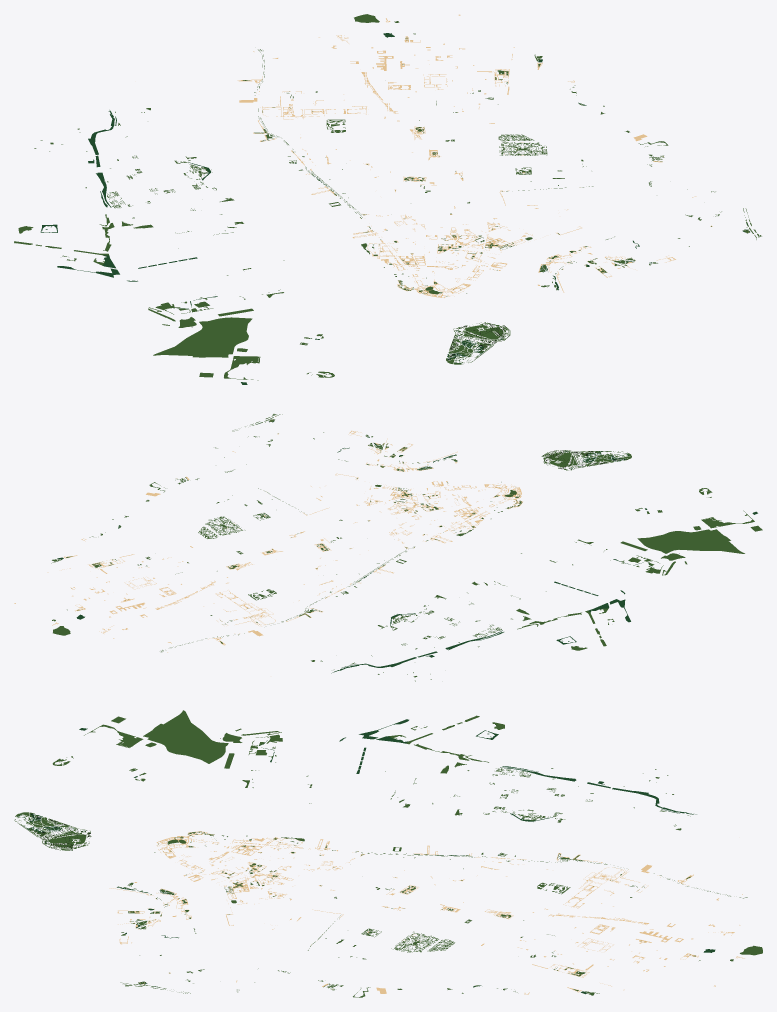
The model's file is HudsonGreenery.glb.
3 views of the same model, one above another, from view 1: azimuth 30°, elevation 25°; view 2: azimuth 150°, elevation 25°; view 3: azimuth 270°, elevation 25° (orthographic). The views are drawn at different scales.
Visible parts, largest first — view 1: map_48osm_areas_pedestrian, map_6osm_vegetation, map_48osm_vegetation, map_44osm_vegetation, map_44osm_forest; view 2: map_48osm_areas_pedestrian, map_6osm_vegetation, map_48osm_vegetation, map_44osm_vegetation, map_44osm_forest; view 3: map_48osm_areas_pedestrian, map_6osm_vegetation, map_48osm_vegetation, map_44osm_vegetation, map_44osm_forest.
Part boxes in pixels (left/top/right/bottom): map_48osm_areas_pedestrian: left=237, top=14, right=748, bottom=297; map_6osm_vegetation: left=153, top=235, right=510, bottom=380; map_48osm_vegetation: left=242, top=14, right=761, bottom=294; map_44osm_vegetation: left=14, top=108, right=284, bottom=325; map_44osm_forest: left=40, top=110, right=217, bottom=309; map_48osm_areas_pedestrian: left=14, top=416, right=522, bottom=652; map_6osm_vegetation: left=403, top=450, right=762, bottom=560; map_48osm_vegetation: left=51, top=414, right=522, bottom=652; map_44osm_vegetation: left=311, top=542, right=687, bottom=681; map_44osm_forest: left=331, top=559, right=653, bottom=673; map_48osm_areas_pedestrian: left=109, top=831, right=744, bottom=994; map_6osm_vegetation: left=14, top=710, right=304, bottom=878; map_48osm_vegetation: left=118, top=831, right=762, bottom=997; map_44osm_vegetation: left=235, top=715, right=690, bottom=830; map_44osm_forest: left=259, top=719, right=696, bottom=821.
Size of the model in its own units: 899 by 0.01 by 990.
